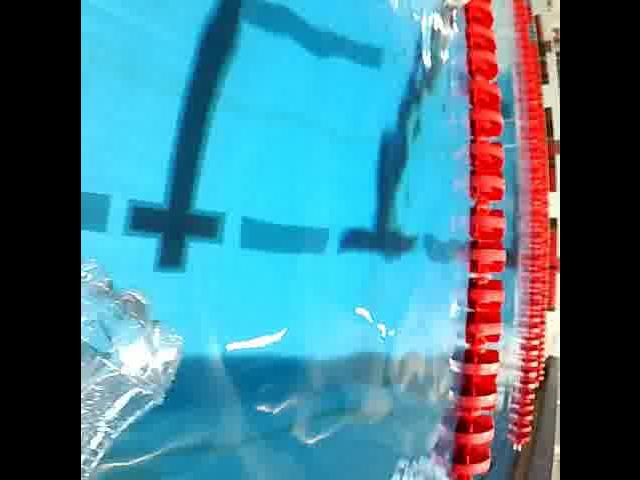Bottle: (80, 238, 188, 480), (436, 0, 478, 16)
